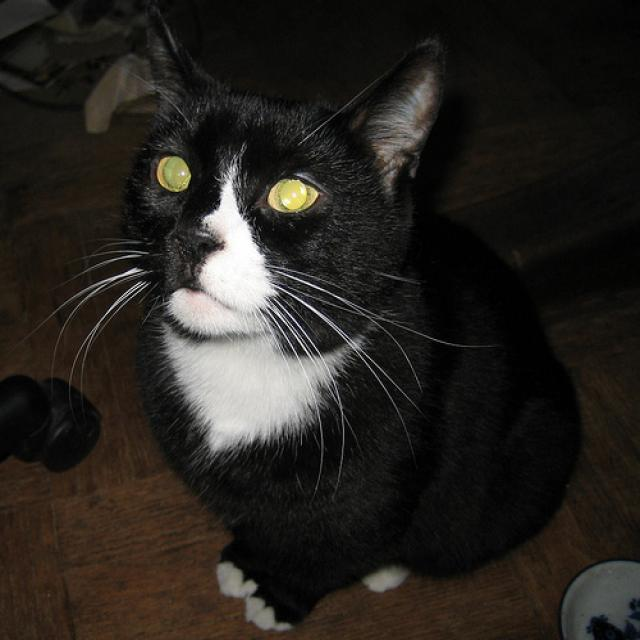cat: (37, 4, 585, 635)
